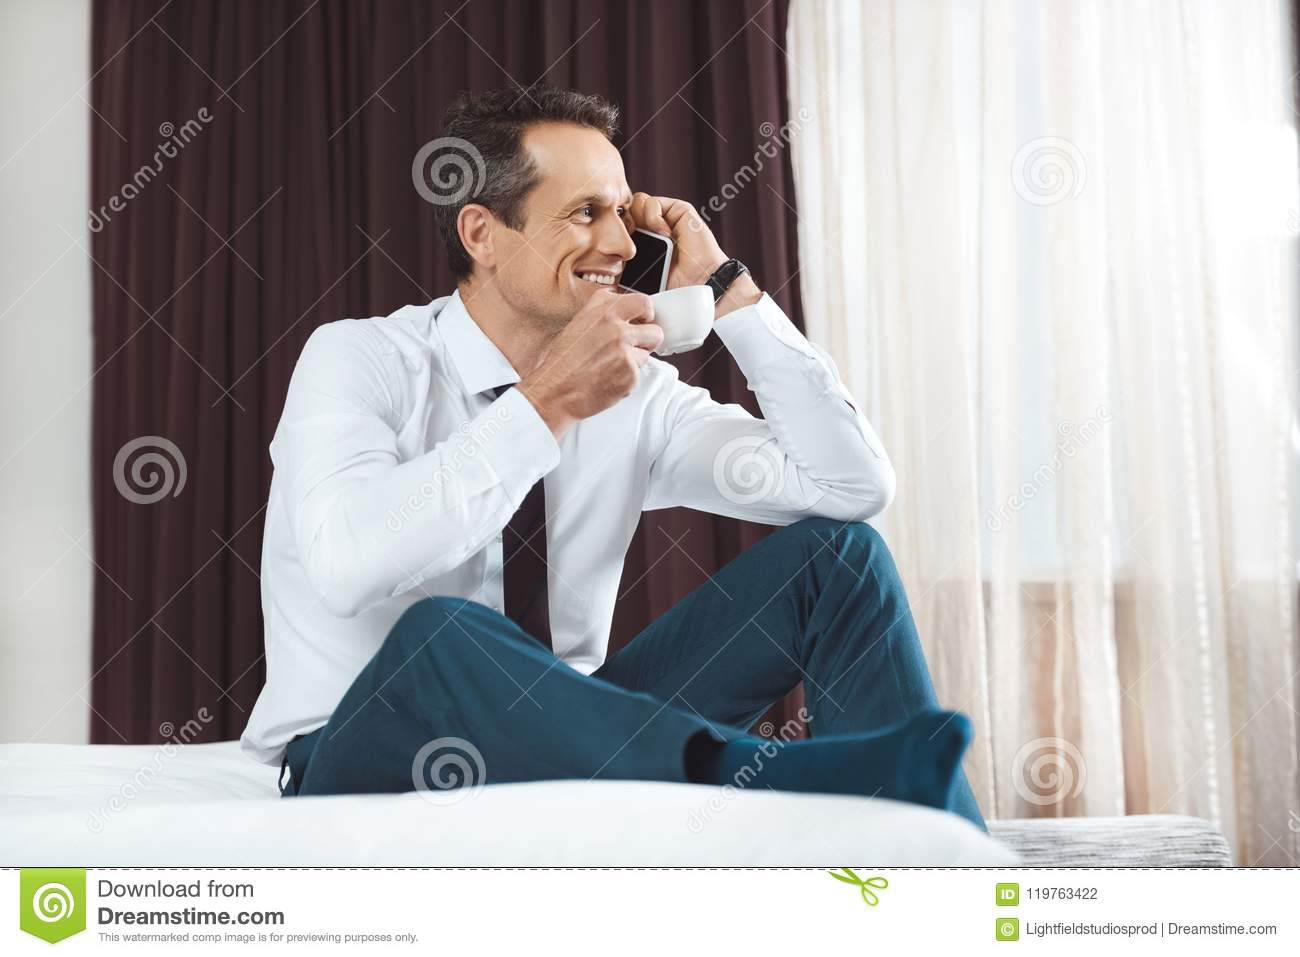phone: (612, 228, 678, 299)
talk: (545, 177, 730, 316)
